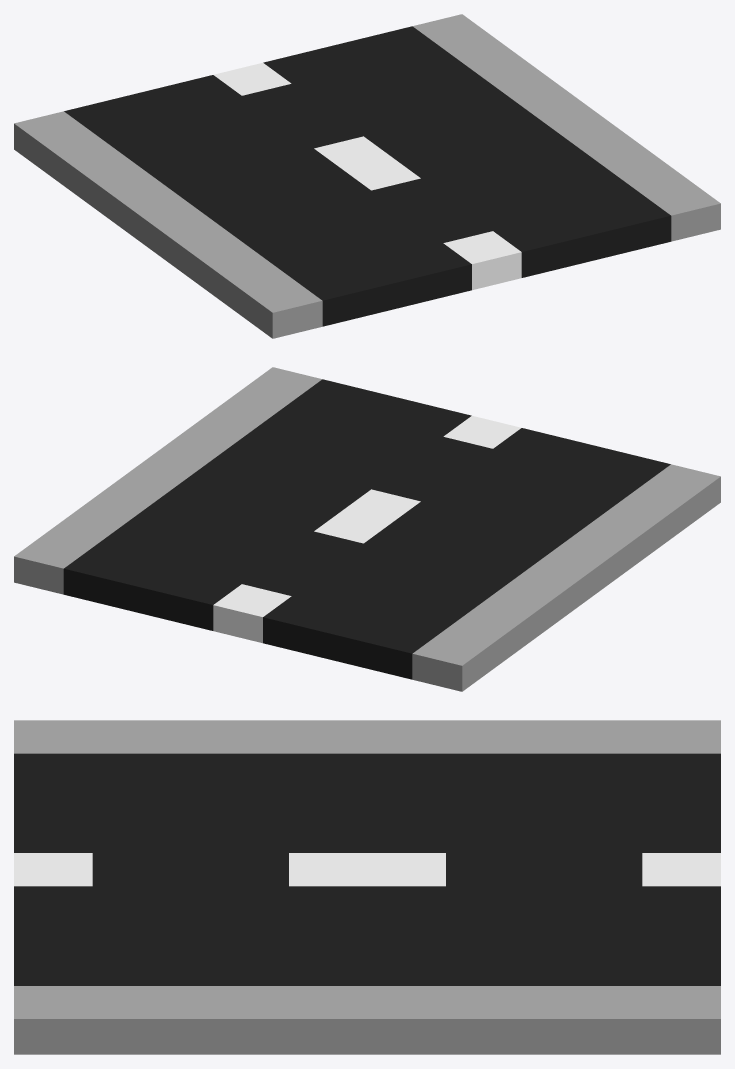
File: road.obj
3 renders of one model, top to bottom at view 1: azimuth 30°, elevation 25°; view 2: azimuth 150°, elevation 25°; view 3: azimuth 270°, elevation 25°, orthographic. The views are drawn at different scales.
Bounding box in the file's own units: 1.8 × 0.1 × 1.8.
Materials: 1 (1 with a texture image).
